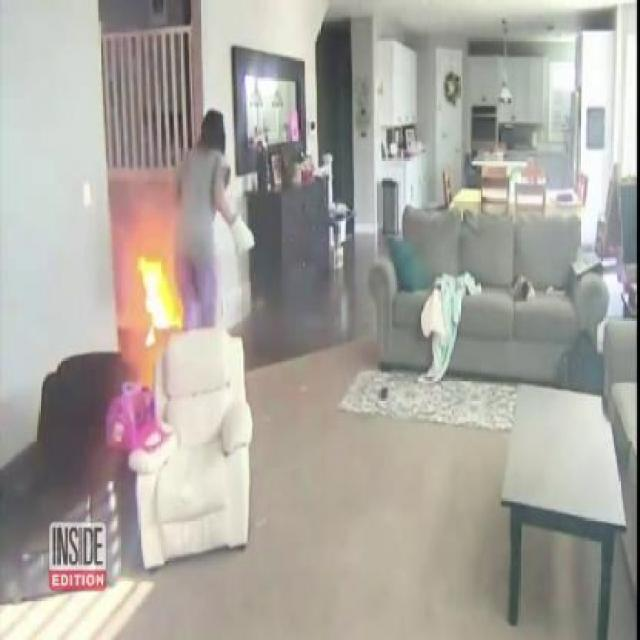fire: (108, 198, 197, 354)
